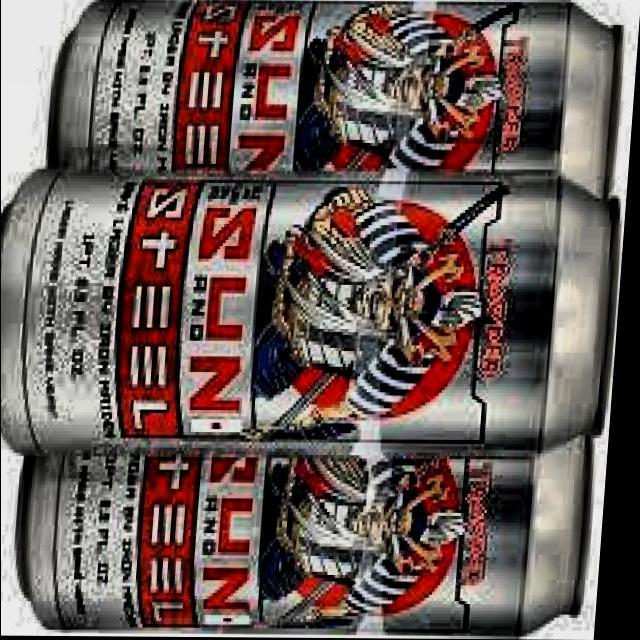Aluminum Can: (0, 163, 630, 470), (39, 0, 629, 227), (10, 428, 608, 640)
